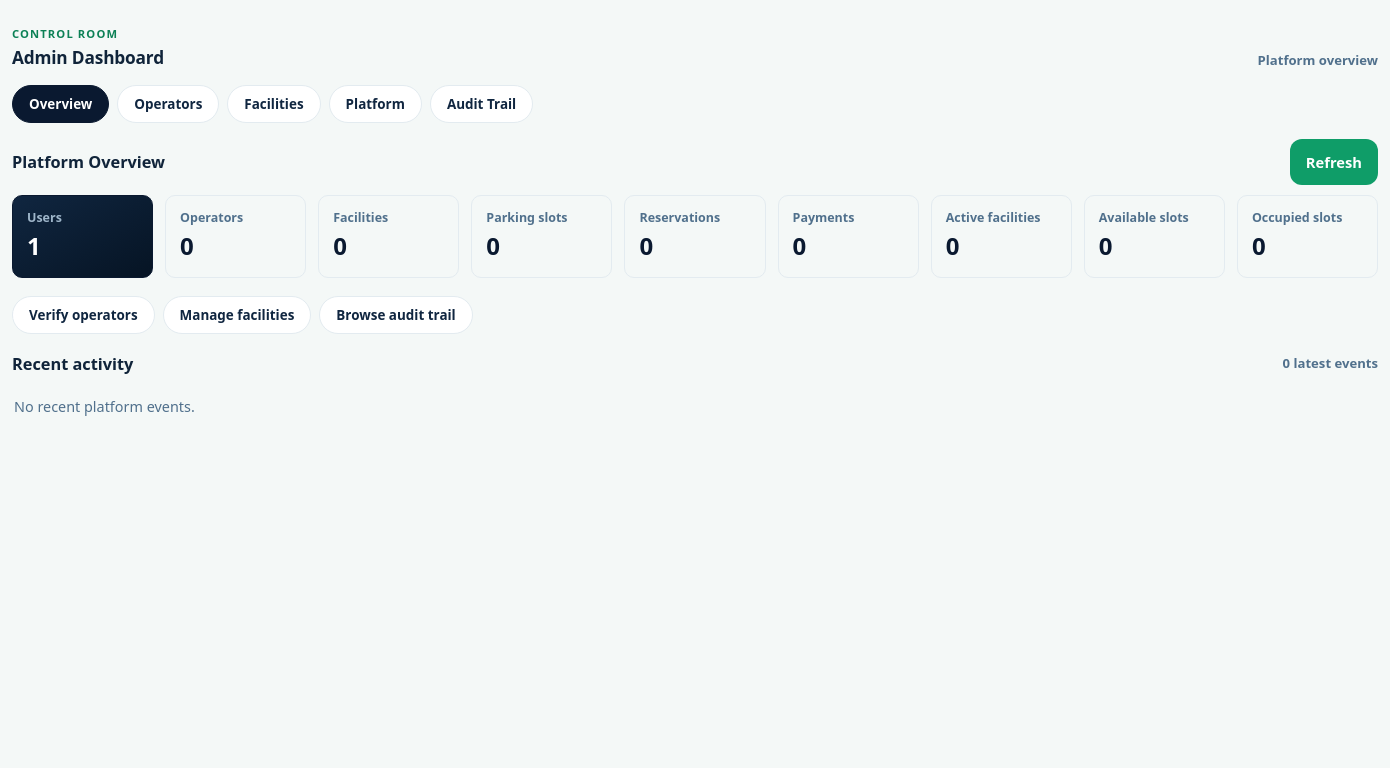
AdminDashboard › refetches the list when the status filter changes
Click the button "Operators" at {"x": 168, "y": 104}, box x1=117 y1=85 x2=219 y2=123
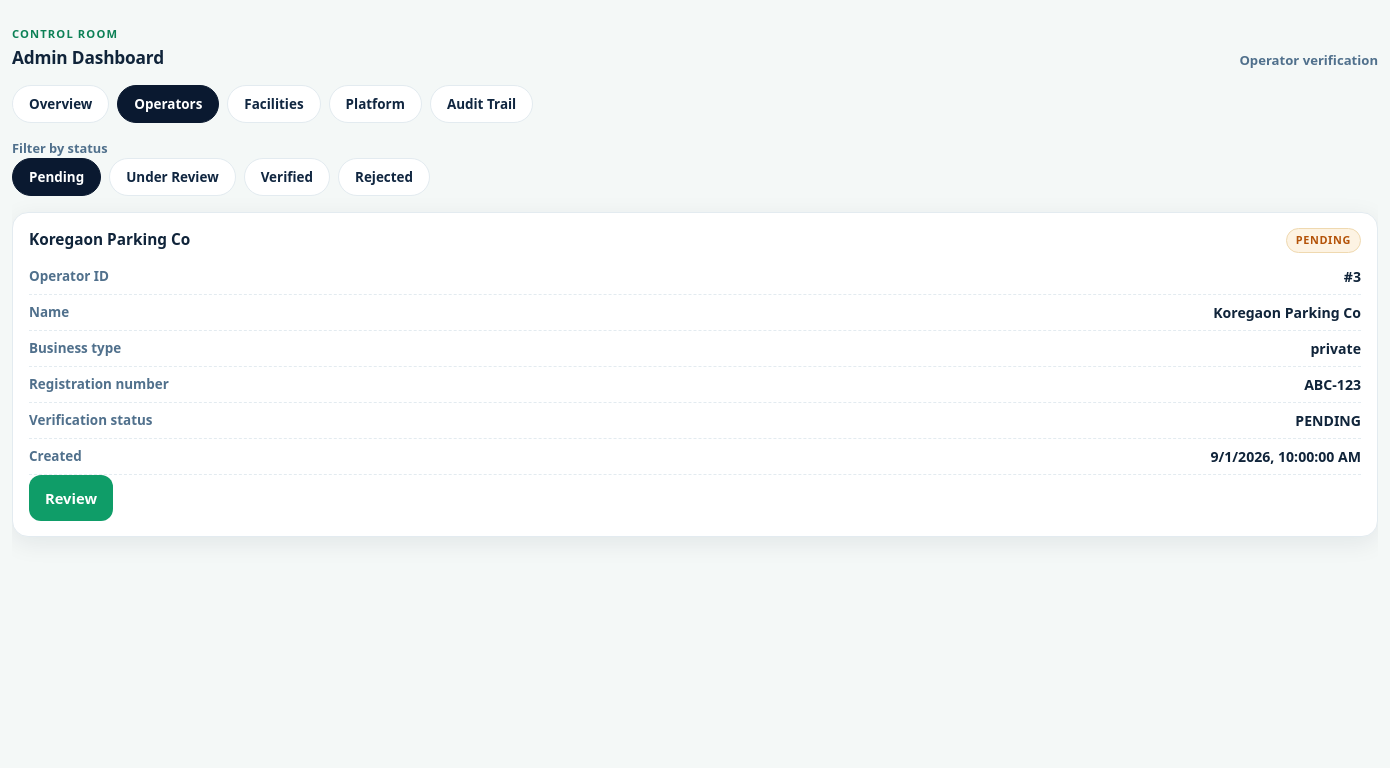
Click the button "Under Review" at {"x": 172, "y": 177}, box x1=109 y1=158 x2=236 y2=196
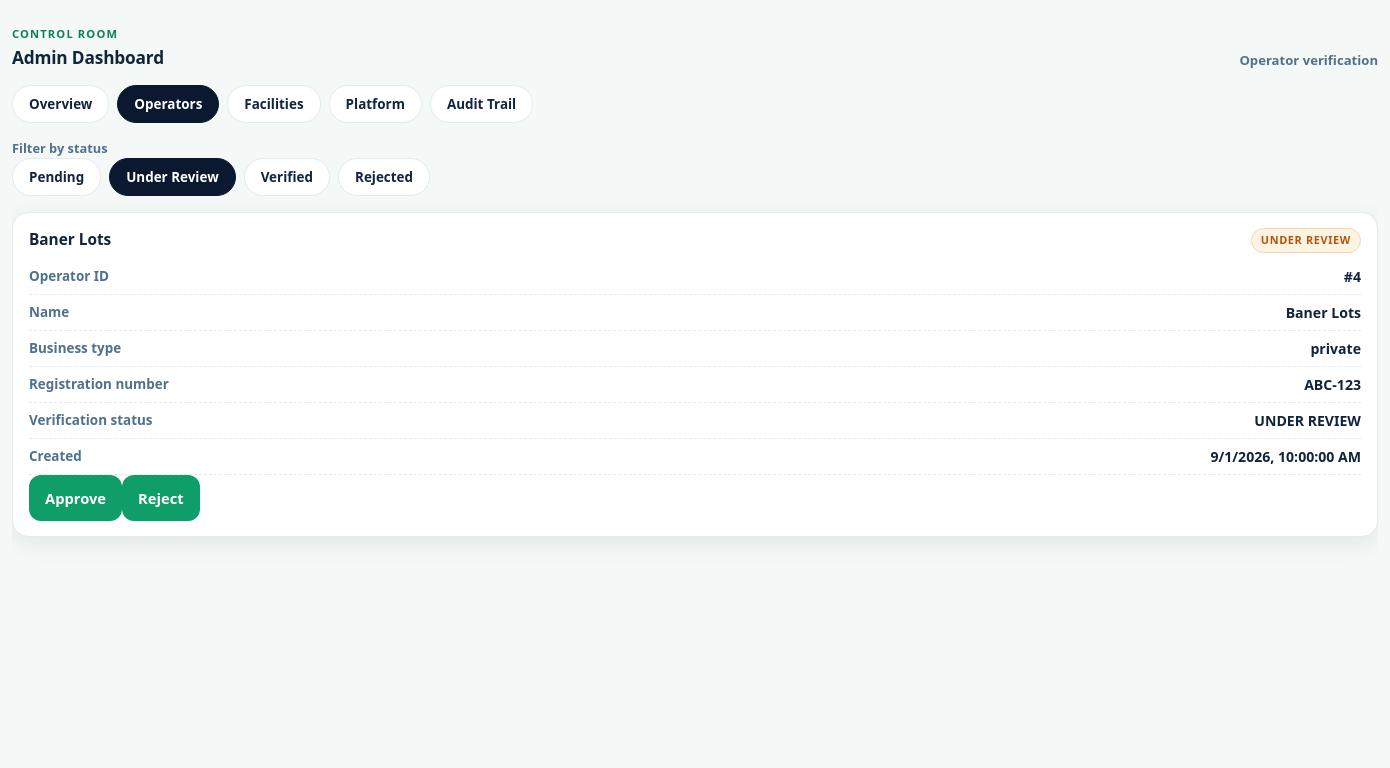
Expected: the button "Rejected" is shown, x1=338 y1=158 x2=430 y2=196
Expected: the list item with class "admin-operator-card" shows "UNDER REVIEW", x1=1261 y1=232 x2=1351 y2=247
Expected: the button "Approve" is shown, x1=29 y1=475 x2=122 y2=521
